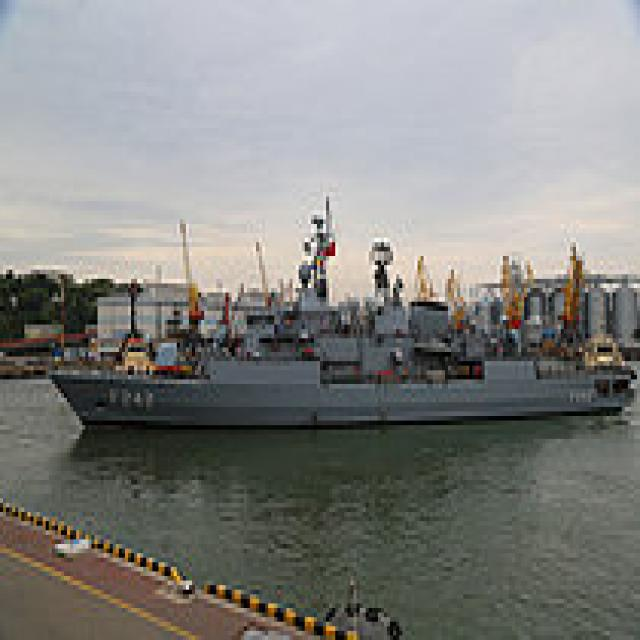Warship: (36, 206, 634, 425)
